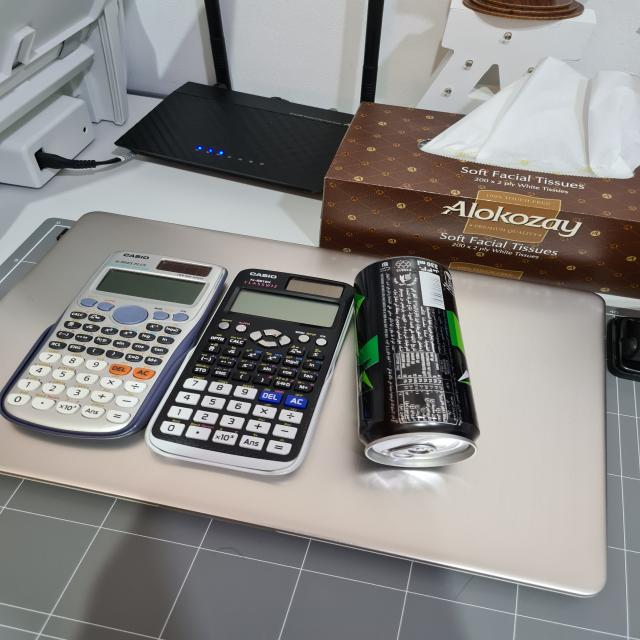non-organic waste: (346, 254, 489, 469)
